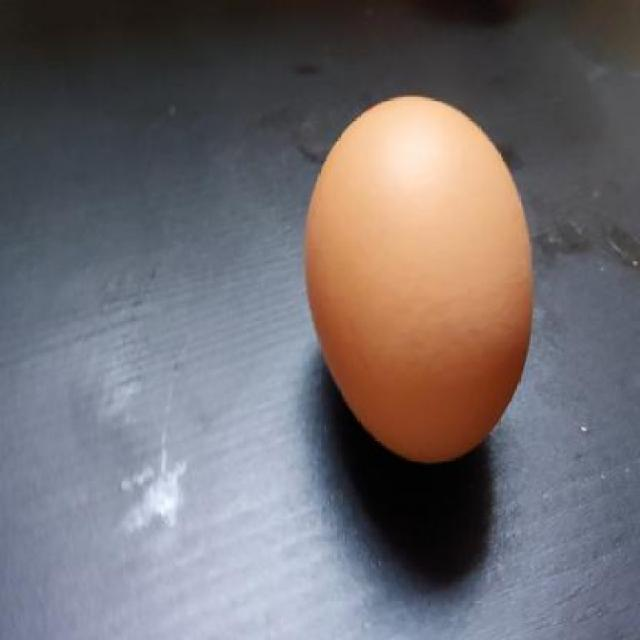biodegradable: (304, 92, 538, 466)
